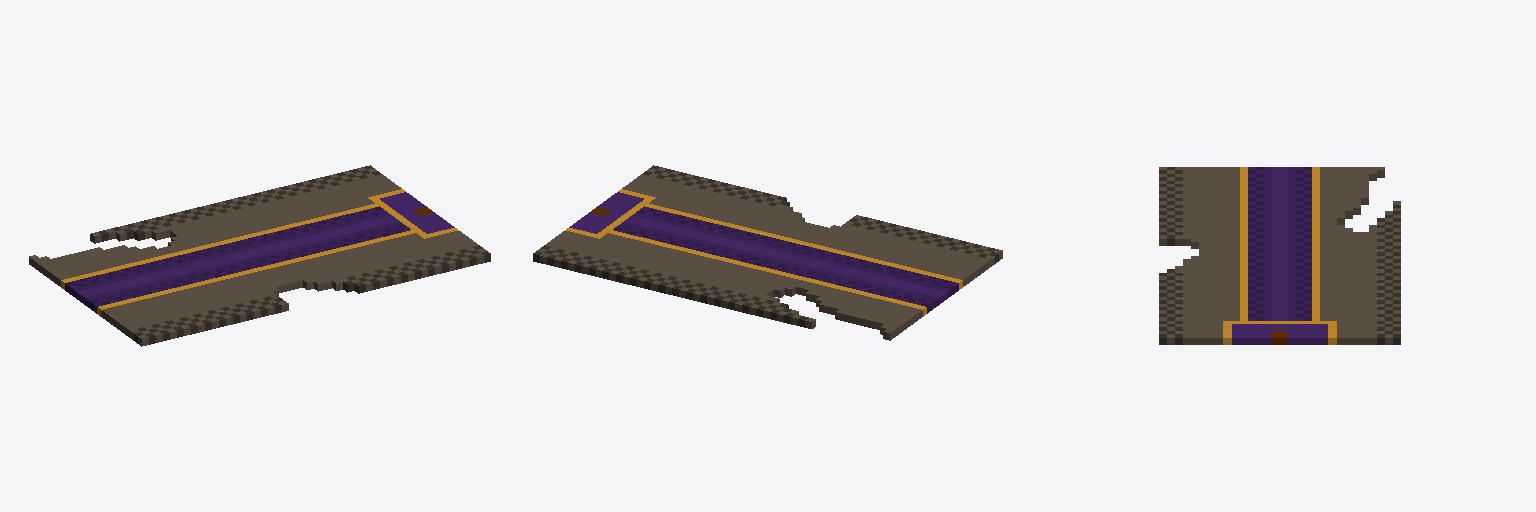
3 renders of one model, left to right at view 1: azimuth 30°, elevation 25°; view 2: azimuth 150°, elevation 25°; view 3: azimuth 270°, elevation 25°, orthographic.
Parts seen in each view (by area): view 1: object 1; view 2: object 1; view 3: object 1.
Part boxes in pixels (x1,y1,x2,y2): object 1: (29, 165, 490, 346); object 1: (533, 165, 1002, 340); object 1: (1159, 167, 1400, 344).
Size of the model in its own units: 5 by 0.1 by 3.
Materials: 1 (1 with a texture image).